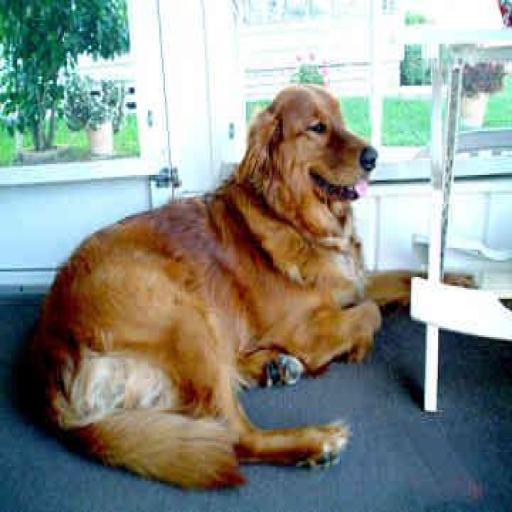dog_face: (246, 73, 384, 208)
